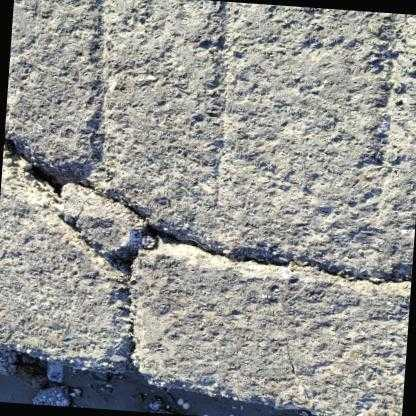crack: (4, 132, 412, 371)
